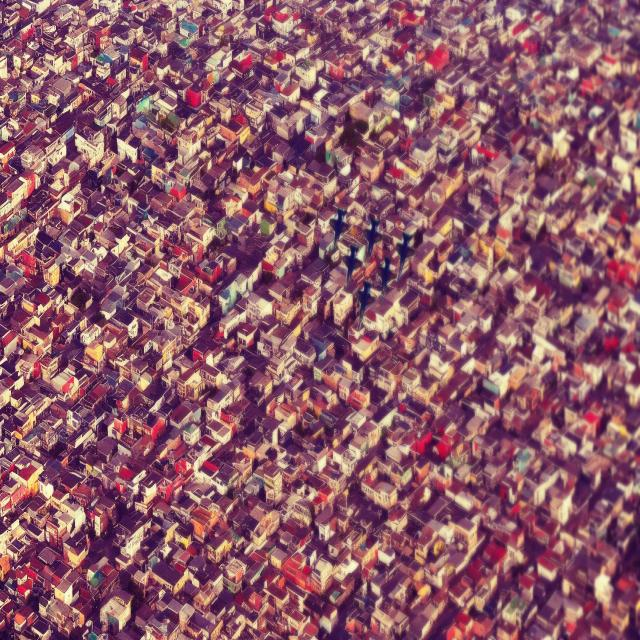airplane: (352, 276, 375, 328), (328, 205, 351, 248), (395, 229, 414, 281), (360, 215, 381, 258), (376, 256, 396, 300), (342, 242, 362, 285)
